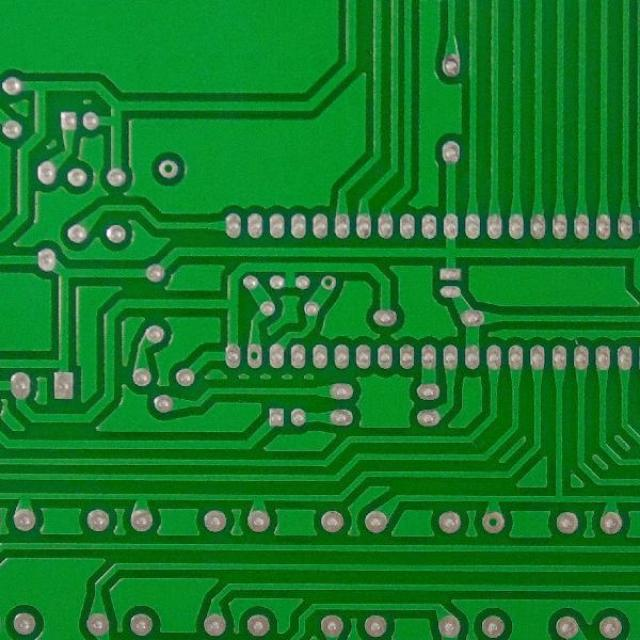Missing_Hole: (480, 511, 507, 533), (157, 158, 179, 179), (246, 343, 264, 368), (320, 274, 336, 292)
